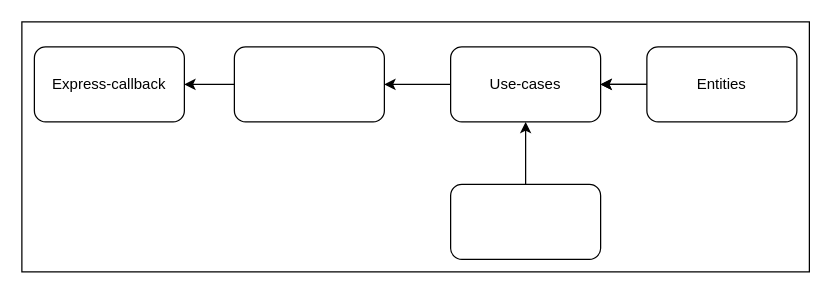
Image size: 831x294. Some labels were removed from this diagram. The shapes that lost their labels are listed below. From the top down, each one's centre as x and y in pixels, then its label:
the point at 308,84: controllers
the point at 525,221: Data-Access
